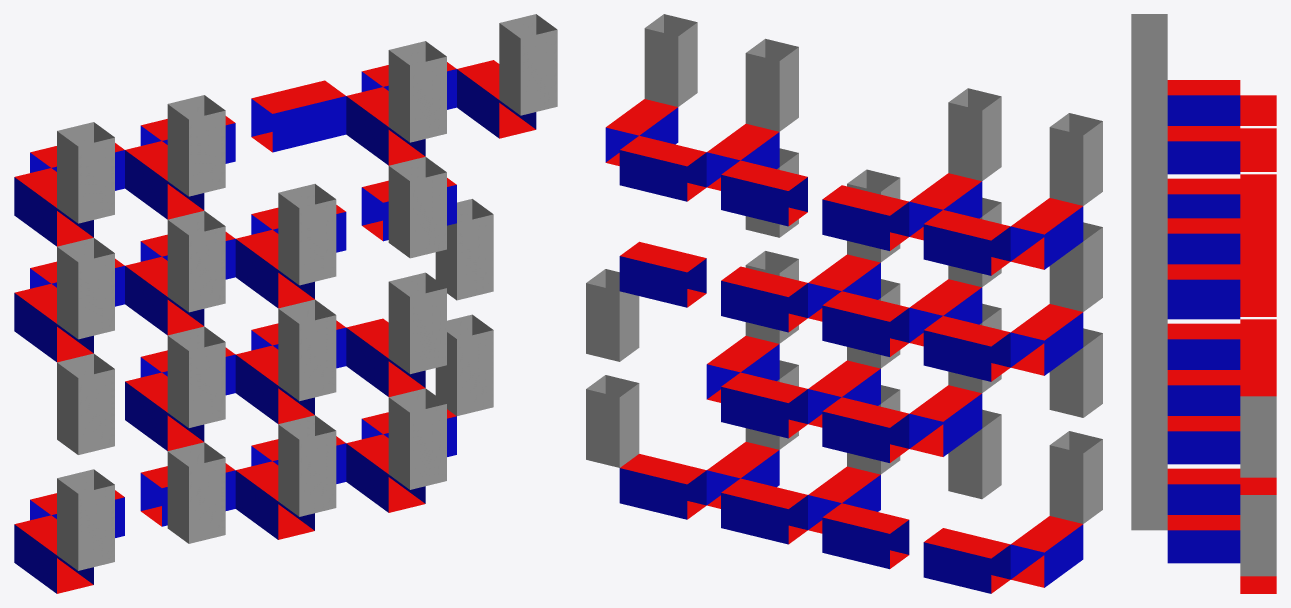
The model's file is sample.gltf.
3 views of the same model, side by side, from view 1: azimuth 30°, elevation 25°; view 2: azimuth 150°, elevation 25°; view 3: azimuth 270°, elevation 25° (orthographic). The views are drawn at different scales.
Parts seen in each view (by area): view 1: edgeJ(2, 0, 0):-I (×2), edgeJ(2, 0, 2):-I (×2), edgeJ(2, 0, 1):-I (×2), edgeJ(0, 0, 3):-I (×2), edgeJ(0, 0, 2):-I (×2), edgeJ(0, 0, 0):-I (×2), edgeJ(1, 0, 1):-I (×2), edgeJ(1, 0, 3):-I (×2), edgeJ(4, 0, 3):-I (×2), edgeJ(1, 0, 2):-I (×2), edgeJ(3, 0, 0):-I (×2), edgeJ(3, 0, 1):-I (×2) (+46 smaller); view 2: edgeJ(0, 0, 0):-I (×2), edgeJ(0, 0, 2):-I (×2), edgeJ(0, 0, 3):-I (×2), edgeJ(0, 0, 0):+J, edgeJ(0, 0, 3):+J, edgeJ(3, 0, 3):+J, edgeJ(1, 0, 3):+J, edgeJ(4, 0, 3):+J, edgeI(0, 1, 3):+J, edgeI(3, 1, 3):+J, edgeI(0, 1, 0):+J, edgeI(0, 1, 2):+J (+60 smaller); view 3: edgeJ(1, 0, 3):+I (×2), edgeJ(3, 0, 0):+I (×2), edgeJ(3, 0, 1):+I (×2), edgeJ(4, 0, 3):+I (×2), edgeJ(3, 0, 3):+I (×2), edgeJ(0, 0, 3):+I (×2), edgeJ(2, 0, 0):+I (×2), edgeJ(2, 0, 1):+I (×2), edgeJ(4, 1, 0):+I, edgeJ(4, 1, 1):+I, edgeJ(1, 0, 1):+I, edgeJ(0, 0, 2):+I (×2) (+35 smaller).
Boxes of the visible parts, x1,y1,x2,y2 form: edgeJ(2, 0, 0):-I (×2): (235,424,299,539); edgeJ(2, 0, 2):-I (×2): (235,193,299,307); edgeJ(2, 0, 1):-I (×2): (235,309,299,423); edgeJ(0, 0, 3):-I (×2): (14,131,78,246); edgeJ(0, 0, 2):-I (×2): (14,247,78,361); edgeJ(0, 0, 0):-I (×2): (14,478,78,593); edgeJ(1, 0, 1):-I (×2): (125,336,188,450); edgeJ(1, 0, 3):-I (×2): (125,104,188,219); edgeJ(4, 0, 3):-I (×2): (457,23,520,138); edgeJ(1, 0, 2):-I (×2): (125,220,188,335); edgeJ(3, 0, 0):-I (×2): (346,397,409,512); edgeJ(3, 0, 1):-I (×2): (346,282,409,396); edgeJ(0, 0, 0):-I (×2): (1044,439,1102,587); edgeJ(0, 0, 2):-I (×2): (1044,227,1102,375); edgeJ(0, 0, 3):-I (×2): (1044,121,1102,269); edgeJ(0, 0, 0):+J: (1049,445,1083,523); edgeJ(0, 0, 3):+J: (1049,127,1083,205); edgeJ(3, 0, 3):+J: (745,53,779,131); edgeJ(1, 0, 3):+J: (948,102,982,181); edgeJ(4, 0, 3):+J: (644,28,678,106); edgeI(0, 1, 3):+J: (923,224,991,275); edgeI(3, 1, 3):+J: (619,150,687,201); edgeI(0, 1, 0):+J: (923,542,991,593); edgeI(0, 1, 2):+J: (923,330,991,381); edgeJ(1, 0, 3):+I (×2): (1131,75,1240,174); edgeJ(3, 0, 0):+I (×2): (1131,464,1240,563); edgeJ(3, 0, 1):+I (×2): (1131,365,1240,464); edgeJ(4, 0, 3):+I (×2): (1131,213,1240,312); edgeJ(3, 0, 3):+I (×2): (1131,167,1240,264); edgeJ(0, 0, 3):+I (×2): (1131,29,1240,125); edgeJ(2, 0, 0):+I (×2): (1131,431,1240,514); edgeJ(2, 0, 1):+I (×2): (1131,332,1240,415); edgeJ(4, 1, 0):+I: (1240,510,1276,576); edgeJ(4, 1, 1):+I: (1240,411,1276,477); edgeJ(1, 0, 1):+I: (1167,339,1240,369); edgeJ(0, 0, 2):+I (×2): (1131,141,1240,218).
Size of the model in its own units: 13 by 12 by 4.
